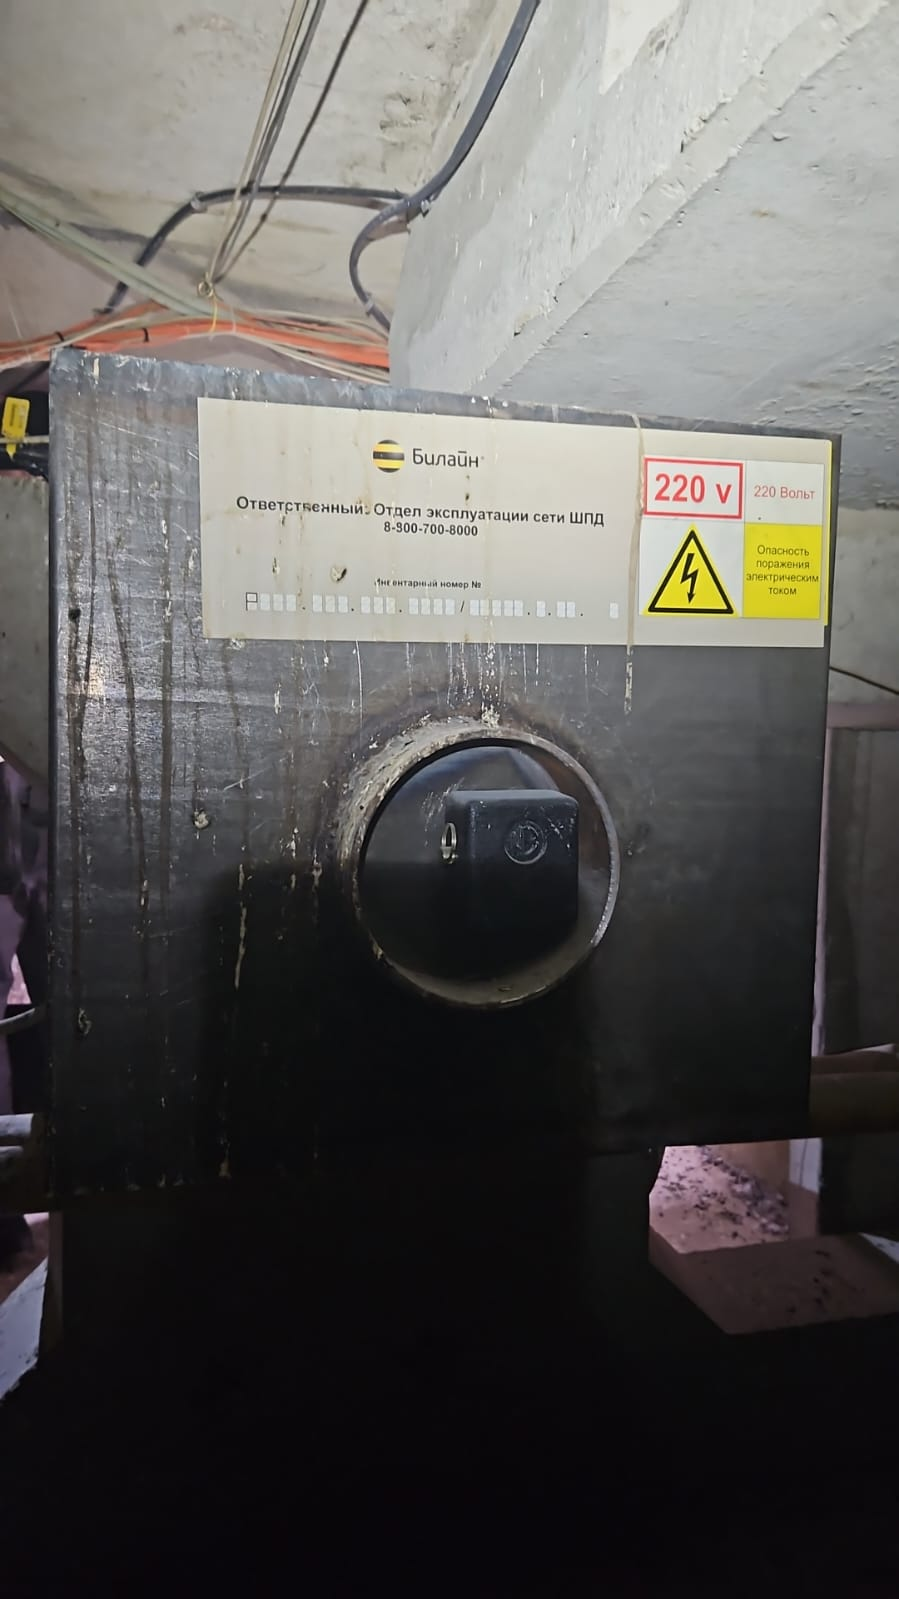shta-9: (30, 342, 845, 1123)
